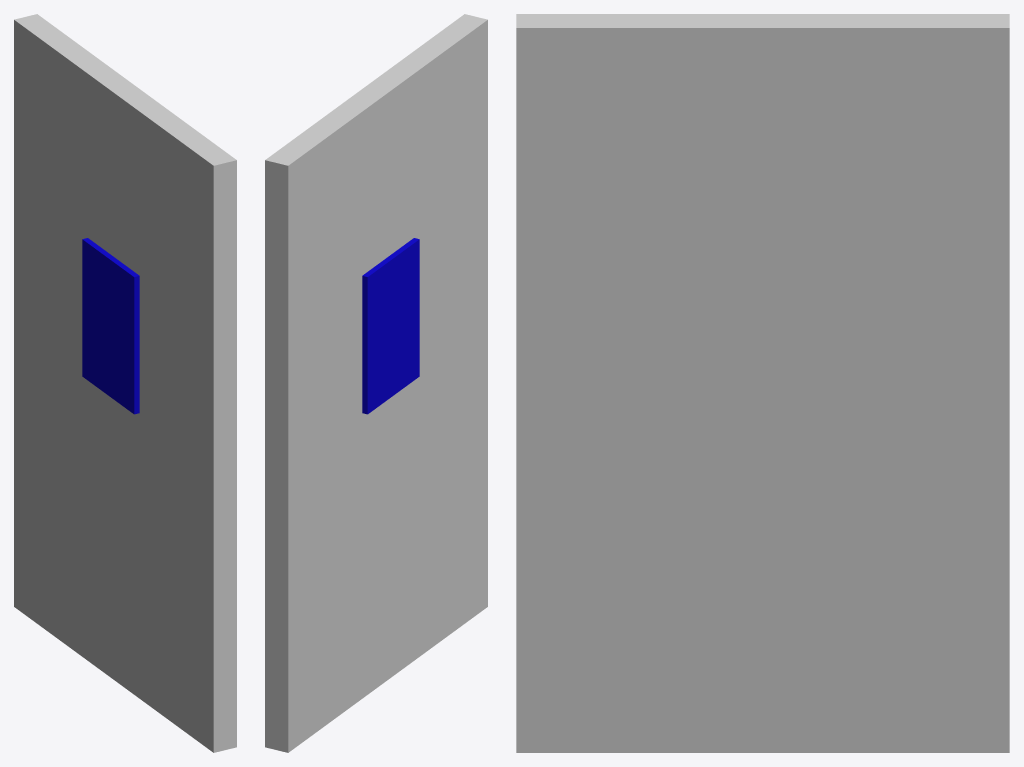
File: door2.fbx
3 renders of one model, left to right at view 1: azimuth 30°, elevation 25°; view 2: azimuth 150°, elevation 25°; view 3: azimuth 270°, elevation 25°, orthographic. The views are drawn at different scales.
Parts seen in each view (by area): view 1: Box002; view 2: Box002; view 3: Box002.
Boxes of the visible parts, bbox=[...] form: Box002: bbox=[14, 14, 236, 752]; Box002: bbox=[265, 14, 487, 752]; Box002: bbox=[516, 14, 1009, 752].
Bounding box in the file's own units: 2.46 × 47.92 × 29.54.
